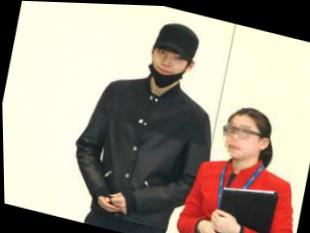WRONG: (144, 40, 190, 87)
